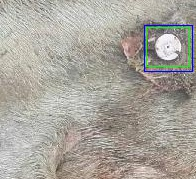text: (146, 27, 189, 66)
